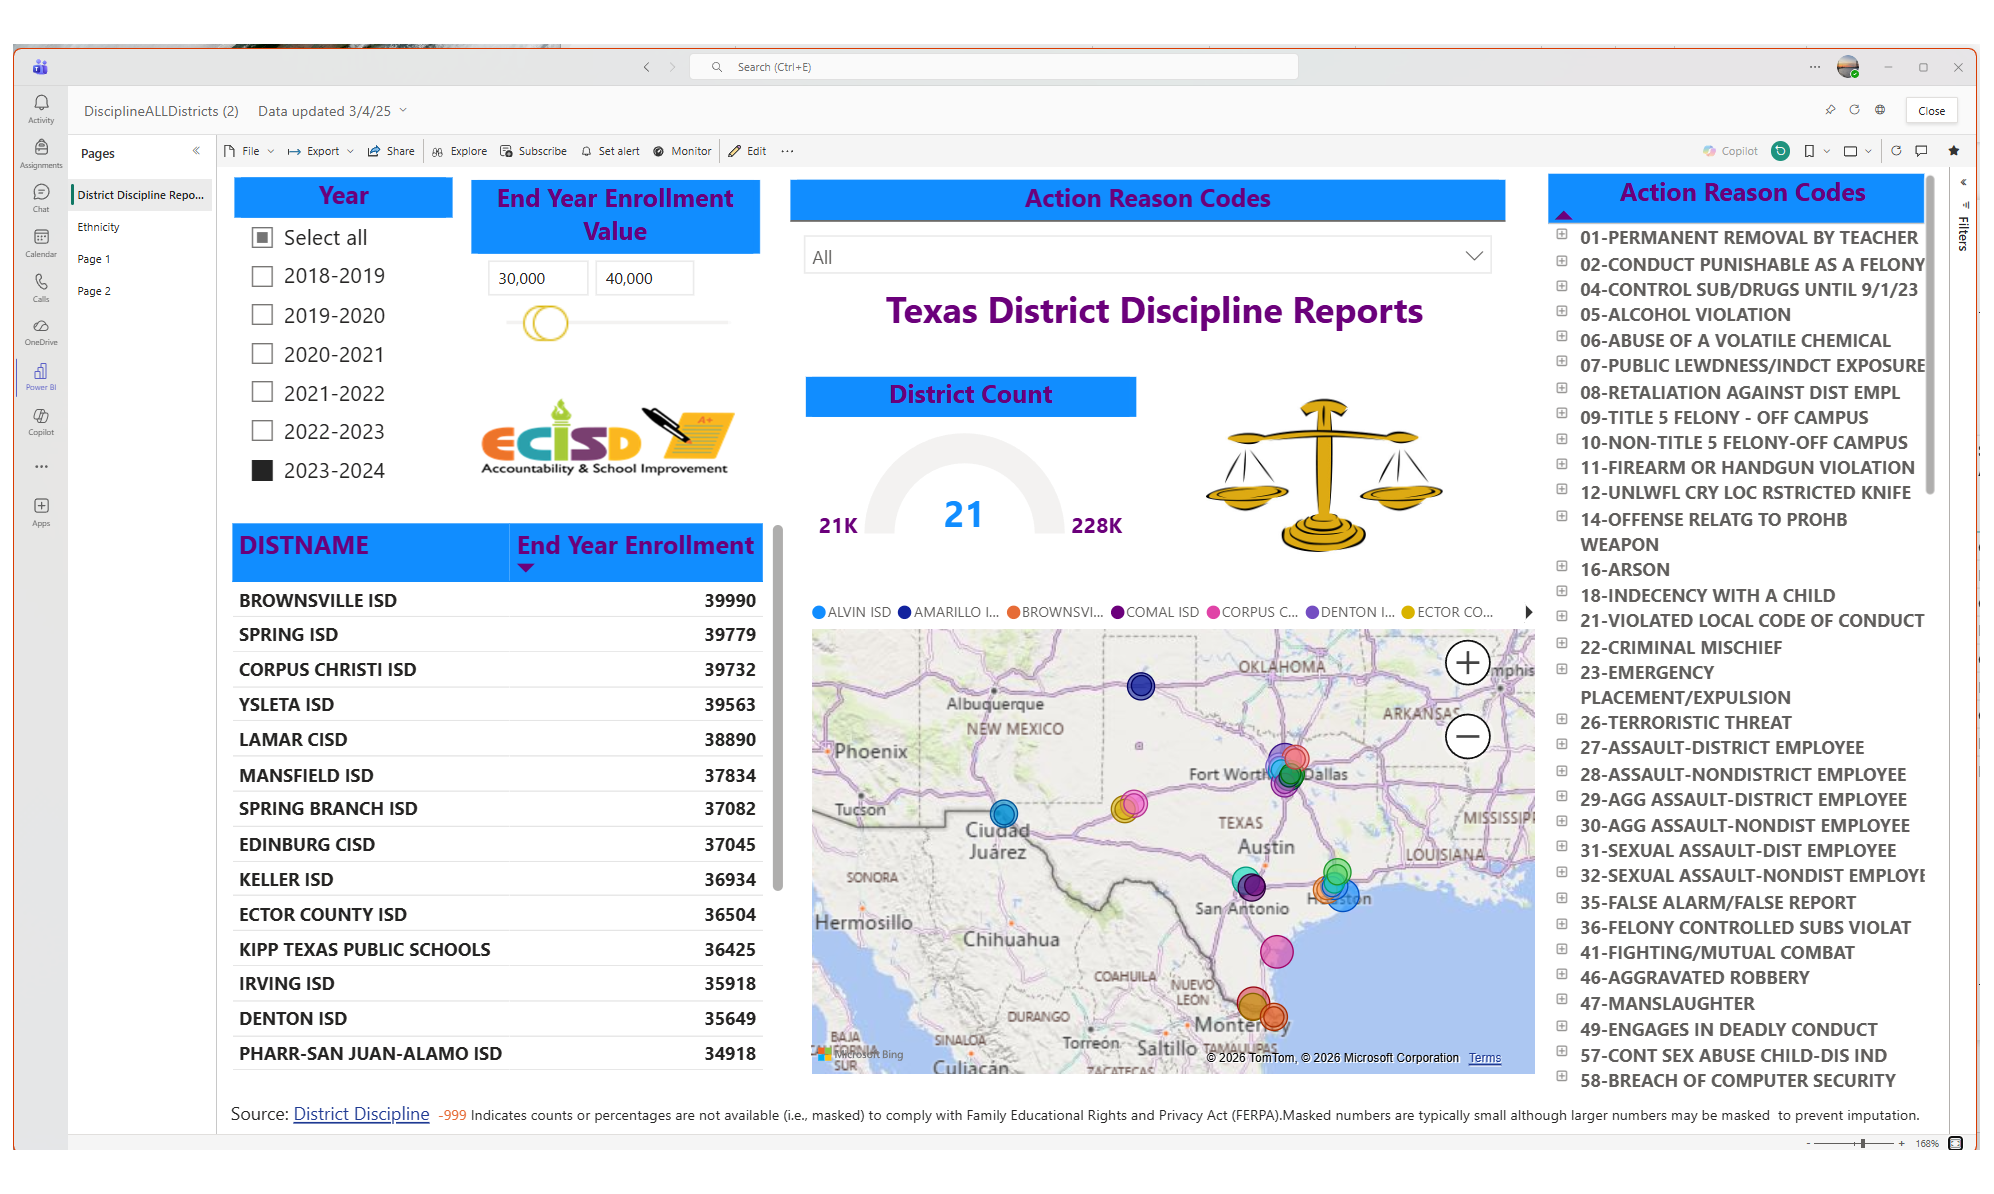

Layout of this report page (visuals, bound fields, positions):
{"tool":"powerbi","page":{"name":"District Discipline Reports","canvas":[1280,720],"ordinal":0},"visuals":[{"type":"slicer","title":"Year","fields":{"Values":["DISTRICT_summaryAllYrs.YEAR"]},"box":[8,8,163,251],"z":0},{"type":"azureMap","fields":{"Series":["EndYearEnrollment.DISTNAME"],"X":["AllDistrictLocations.Longitude"],"Y":["AllDistrictLocations.Latitude"],"Size":["CountNonNull(AllDistrictLocations.PostalCode)"]},"box":[432.3,312.5,549,367.7],"z":1000},{"type":"tableEx","fields":{"Values":["EndYearEnrollment.DISTNAME","Max(EndYearEnrollment.VALUE)"]},"box":[0,260.4,421.9,419.8],"z":2000},{"type":"slicer","title":"End Year Enrollment Value","fields":{"Values":["EndYearEnrollment.VALUE"]},"box":[184.4,9.4,214.6,145.8],"z":3000},{"type":"gauge","title":"District Count","fields":{"MaxValue":["Max(EndYearEnrollment.DISTRICT)"],"MinValue":["Min(EndYearEnrollment.DISTRICT)"],"Y":["Count(EndYearEnrollment.DISTRICT)1"]},"box":[172,133,227,126],"z":4000},{"type":"pivotTable","title":"District Wide Action Reason Codes","fields":{"Rows":["ActionReasonCodes.HEADING NAME","ActionReasonCodes.DISTNAME","ActionReasonCodes.YEAR","ActionReasonCodes.VALUE"]},"box":[981.2,0,299,690.6],"z":5000},{"type":"textbox","box":[0,690.1,171.2,30.1],"z":6000},{"type":"textbox","box":[154.4,690.1,1125.3,29.9],"z":7000},{"type":"textbox","box":[432.3,82.3,520.8,52.1],"z":8000},{"type":"slicer","title":"Action Reason Codes","fields":{"Values":["ActionReasonCodes.HEADING NAME"]},"box":[421.9,9.4,532.3,79.2],"z":9000},{"type":"image","box":[466,182,201,96],"z":10000},{"type":"image","box":[686.5,136.5,266.7,186.5],"z":11000}]}

Visuals, with their boxes on the page's 1280x720 design canvas (x1, y1, x2, y2). These are canvas units, not pixel positions in the 1994x1194 screenshot, which may show the page scaled, cropped or inside an application window:
"Year" slicer: {"left": 8, "top": 8, "right": 171, "bottom": 259}
azureMap - EndYearEnrollment.DISTNAME x AllDistrictLocations.Longitude: {"left": 432, "top": 312, "right": 981, "bottom": 680}
tableEx - EndYearEnrollment.DISTNAME x Max(EndYearEnrollment.VALUE): {"left": 0, "top": 260, "right": 422, "bottom": 680}
"End Year Enrollment Value" slicer: {"left": 184, "top": 9, "right": 399, "bottom": 155}
"District Count" gauge: {"left": 172, "top": 133, "right": 399, "bottom": 259}
"District Wide Action Reason Codes" pivotTable: {"left": 981, "top": 0, "right": 1280, "bottom": 691}
textbox: {"left": 0, "top": 690, "right": 171, "bottom": 720}
textbox: {"left": 154, "top": 690, "right": 1280, "bottom": 720}
textbox: {"left": 432, "top": 82, "right": 953, "bottom": 134}
"Action Reason Codes" slicer: {"left": 422, "top": 9, "right": 954, "bottom": 89}
image: {"left": 466, "top": 182, "right": 667, "bottom": 278}
image: {"left": 686, "top": 136, "right": 953, "bottom": 323}
